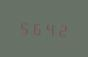five: (18, 18, 29, 36)
four: (42, 19, 53, 37)
six: (30, 19, 41, 36)
two: (54, 20, 65, 38)
